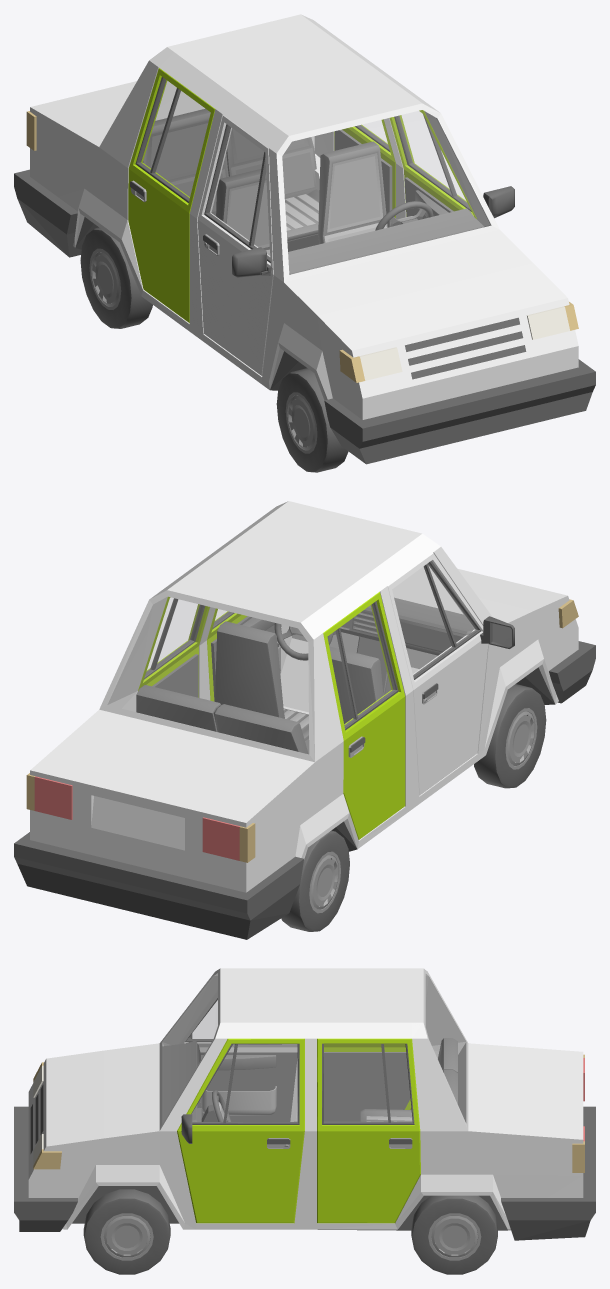
3 views of the same model, one above another, from view 1: azimuth 30°, elevation 25°; view 2: azimuth 150°, elevation 25°; view 3: azimuth 270°, elevation 25° (orthographic). The views are drawn at different scales.
Parts seen in each view (by area): view 1: Chassis_Chassis_0, Windows_Windows_0, Chassis_Bumpers_0, Interior_InteriorPanel_0, FR_Door_Chassis_0, RR_Door_Chassis_0, Interior_Handler_0, RR_Door_Windows_0, FR_Door_Windows_0, FR_Wheel_Tire_0, RR_Wheel_Tire_0, FR_Door_Bumpers_0 (+11 smaller); view 2: Chassis_Chassis_0, Windows_Windows_0, Chassis_Bumpers_0, Interior_InteriorPanel_0, FR_Door_Chassis_0, RR_Door_Chassis_0, FR_Door_Windows_0, RR_Door_Windows_0, FR_Wheel_Tire_0, RR_Wheel_Tire_0, Brake_Lights_Brake_lights_0, FR_Door_Bumpers_0 (+11 smaller); view 3: Chassis_Chassis_0, FL_Door_Chassis_0, RL_Door_Chassis_0, Chassis_Bumpers_0, Windows_Windows_0, FL_Door_Windows_0, RL_Door_Windows_0, RR_Door_InteriorPanel_0, FL_Wheel_Tire_0, RL_Wheel_Tire_0, FR_Door_InteriorPanel_0, Interior_InteriorPanel_0 (+9 smaller).
Boxes of the visible parts, x1,y1,x2,y2 form: Chassis_Chassis_0: (30, 14, 578, 419); Windows_Windows_0: (156, 82, 489, 273); Chassis_Bumpers_0: (14, 169, 595, 464); Interior_InteriorPanel_0: (142, 108, 484, 274); FR_Door_Chassis_0: (197, 115, 273, 375); RR_Door_Chassis_0: (128, 68, 215, 322); Interior_Handler_0: (226, 153, 386, 255); RR_Door_Windows_0: (139, 80, 209, 198); FR_Door_Windows_0: (208, 127, 269, 258); FR_Wheel_Tire_0: (276, 368, 348, 472); RR_Wheel_Tire_0: (80, 227, 152, 328); FR_Door_Bumpers_0: (203, 124, 271, 277); Chassis_Chassis_0: (30, 501, 578, 892); Windows_Windows_0: (108, 568, 461, 753); Chassis_Bumpers_0: (14, 641, 595, 939); Interior_InteriorPanel_0: (136, 601, 473, 754); FR_Door_Chassis_0: (387, 553, 488, 795); RR_Door_Chassis_0: (323, 592, 405, 839); FR_Door_Windows_0: (392, 563, 477, 675); RR_Door_Windows_0: (328, 604, 395, 726); FR_Wheel_Tire_0: (474, 684, 546, 788); RR_Wheel_Tire_0: (281, 830, 349, 931); Brake_Lights_Brake_lights_0: (34, 776, 239, 860); FR_Door_Bumpers_0: (413, 561, 514, 701); Chassis_Chassis_0: (28, 968, 583, 1229); FL_Door_Chassis_0: (177, 1038, 304, 1223); RL_Door_Chassis_0: (317, 1038, 420, 1223); Chassis_Bumpers_0: (14, 1085, 595, 1240); Windows_Windows_0: (164, 974, 465, 1120); FL_Door_Windows_0: (192, 1044, 297, 1122); RL_Door_Windows_0: (324, 1044, 411, 1121); RR_Door_InteriorPanel_0: (324, 1052, 410, 1121); FL_Wheel_Tire_0: (83, 1189, 170, 1274); RL_Wheel_Tire_0: (411, 1195, 497, 1274); FR_Door_InteriorPanel_0: (200, 1052, 297, 1121); Interior_InteriorPanel_0: (162, 1038, 457, 1123).
Bounding box in the file's own units: 5.2 × 4.99 × 11.18.
